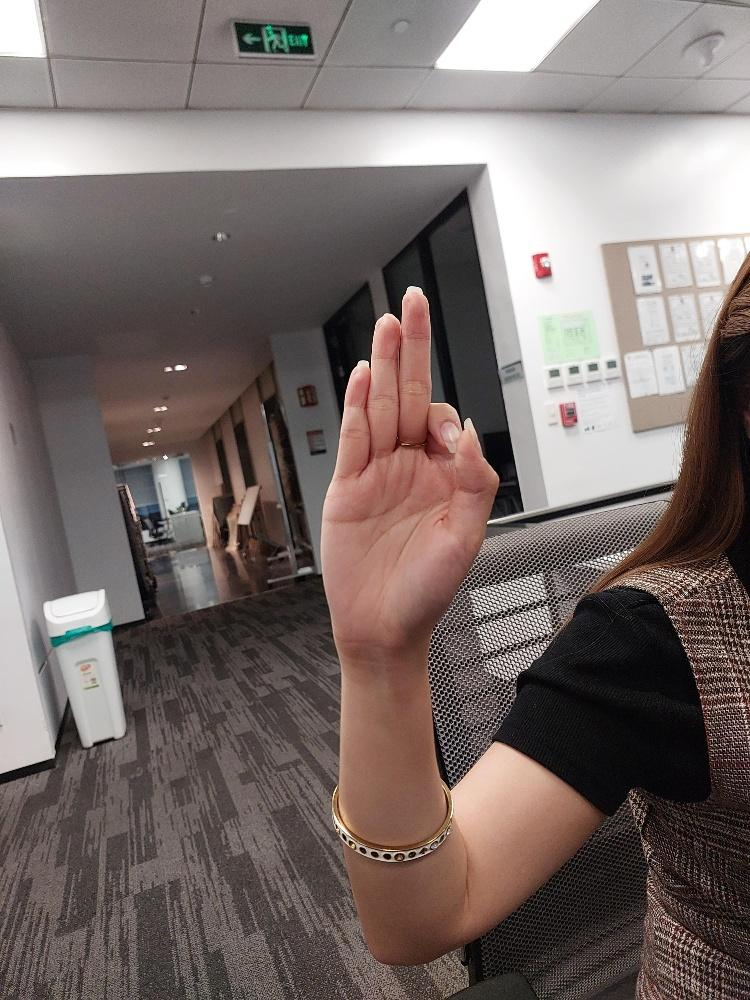f: (316, 281, 501, 658)
